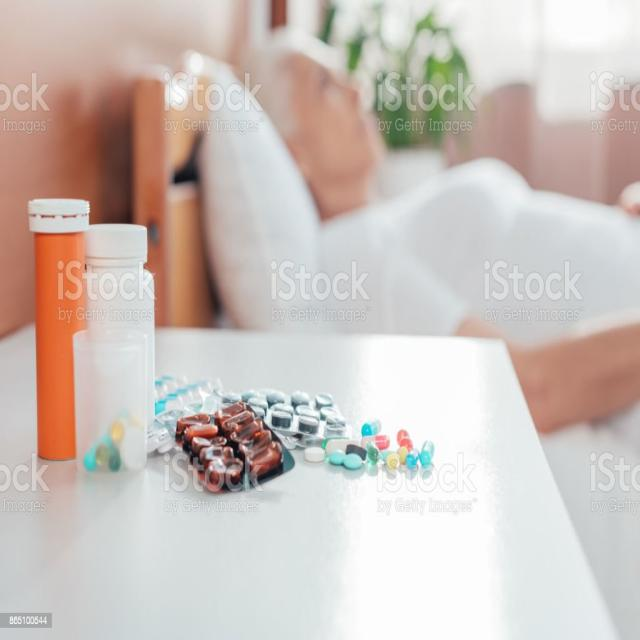B3: (166, 391, 298, 502), (232, 372, 350, 439)
